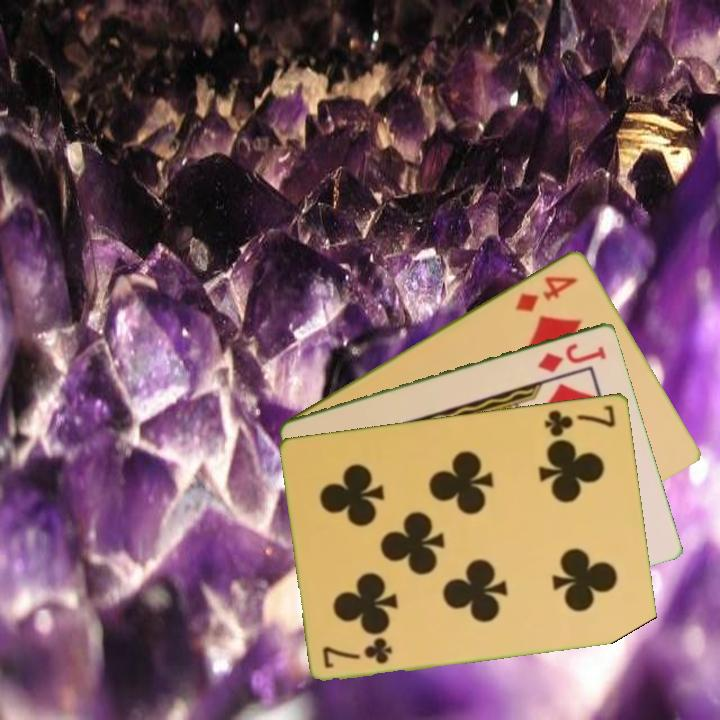4d: (511, 271, 581, 315)
7c: (541, 401, 619, 440), (319, 635, 396, 671)
Jd: (534, 339, 610, 375)
